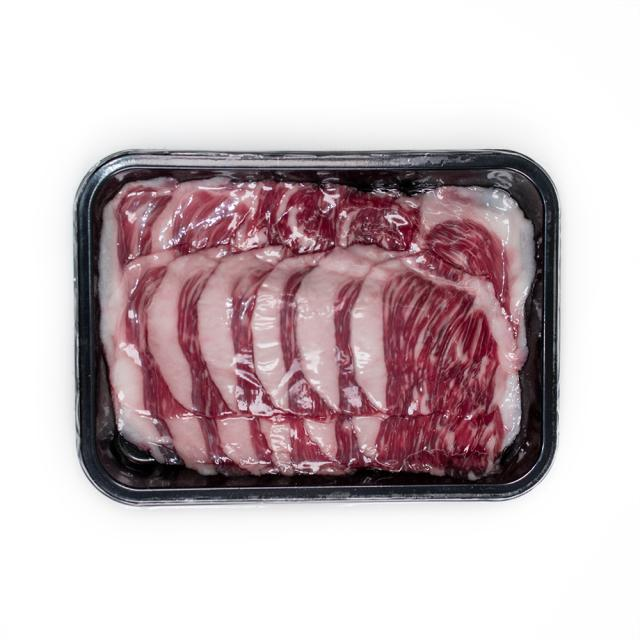beef: (110, 165, 538, 480)
